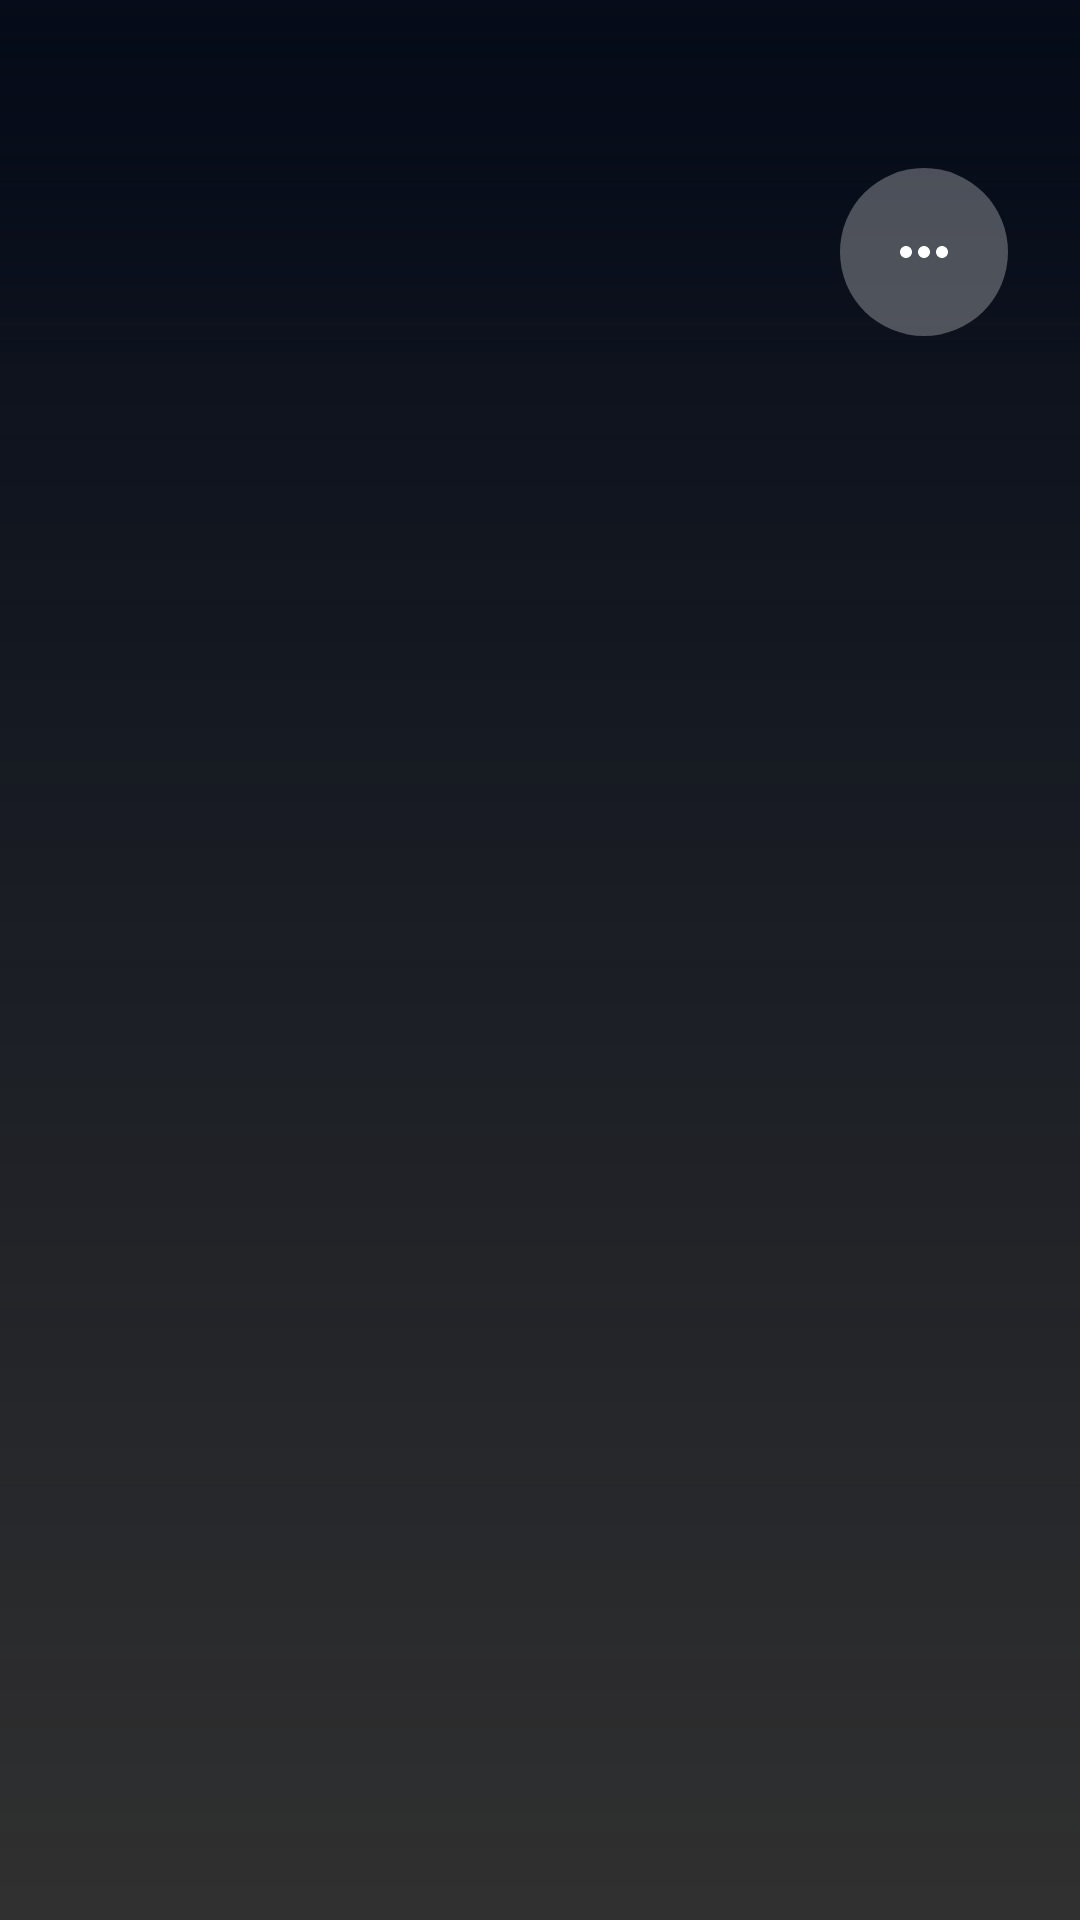

Where icons sit on this 1080px×1920px app screen, as {"left": x1, "top": y1, "right": x2, "bottom": y2}:
ellipsis: {"left": 840, "top": 168, "right": 1008, "bottom": 336}
